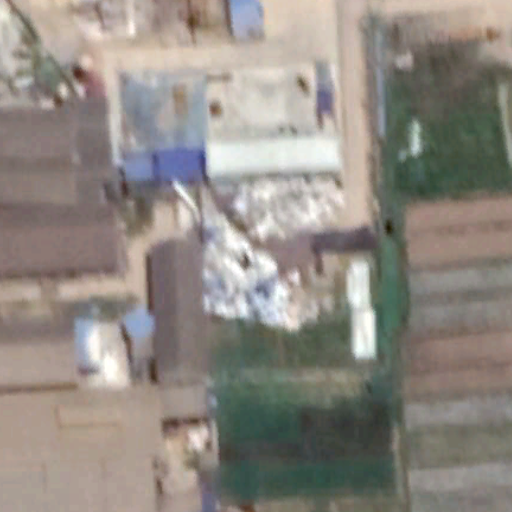msw: (200, 177, 342, 326)
